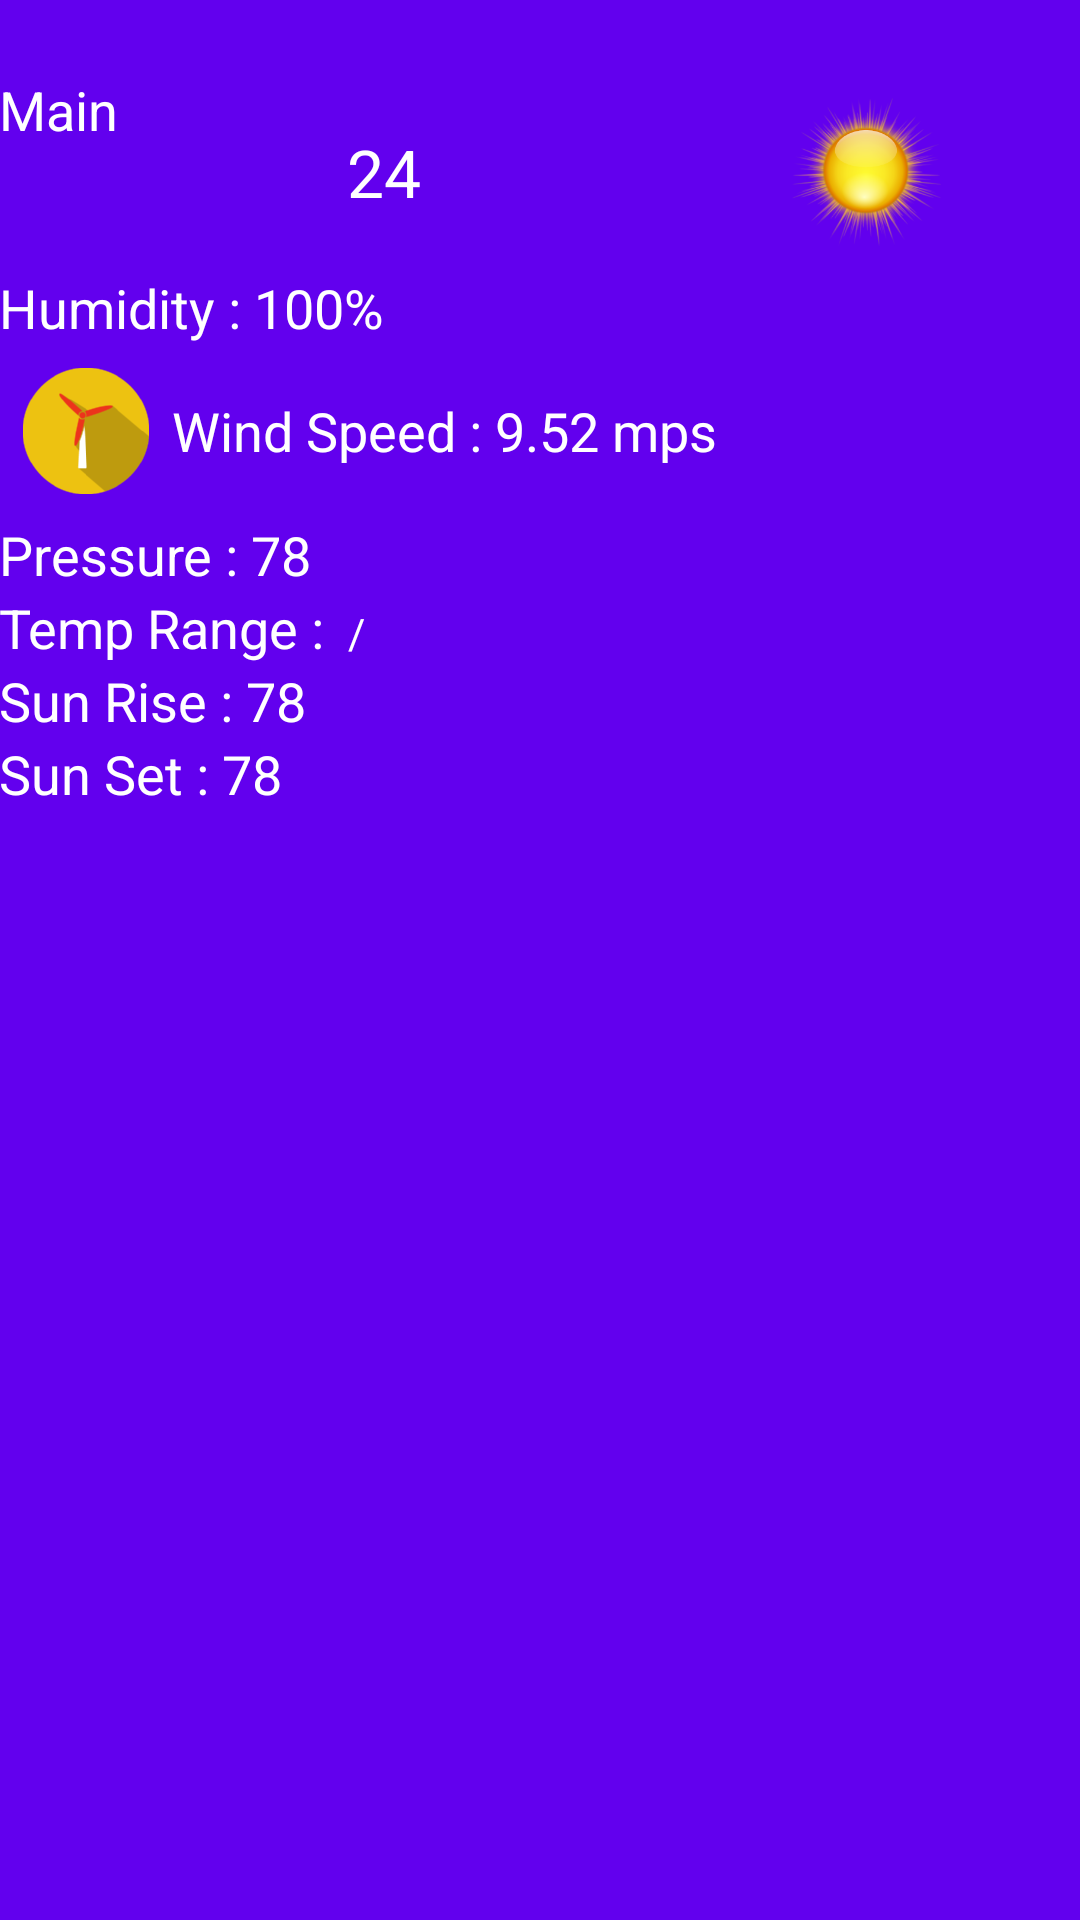

Named icons in this screenshot (1080px x 1920px) and their centers, (x,y):
clear: (866,172)
